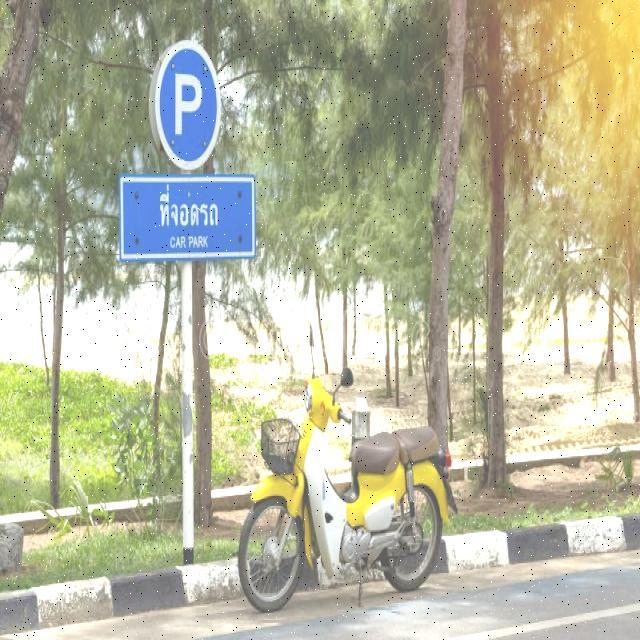Traffic sign: (112, 35, 264, 266)
